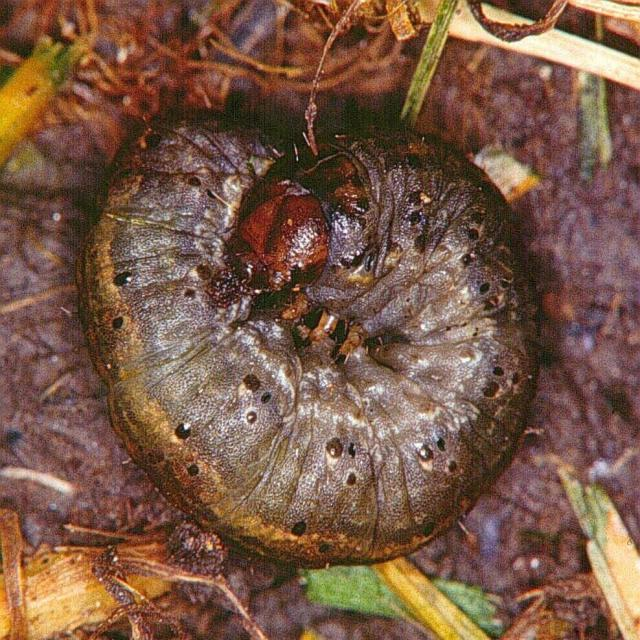black cutworm: (82, 124, 547, 569)
